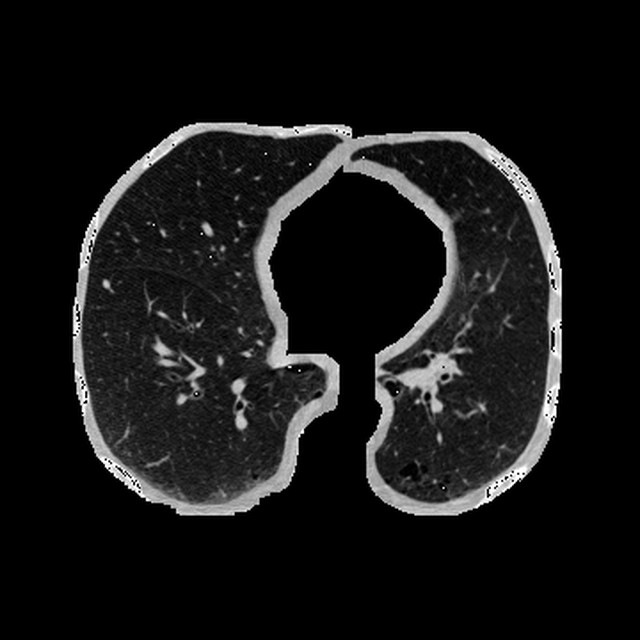PN: (100, 277, 110, 288)
